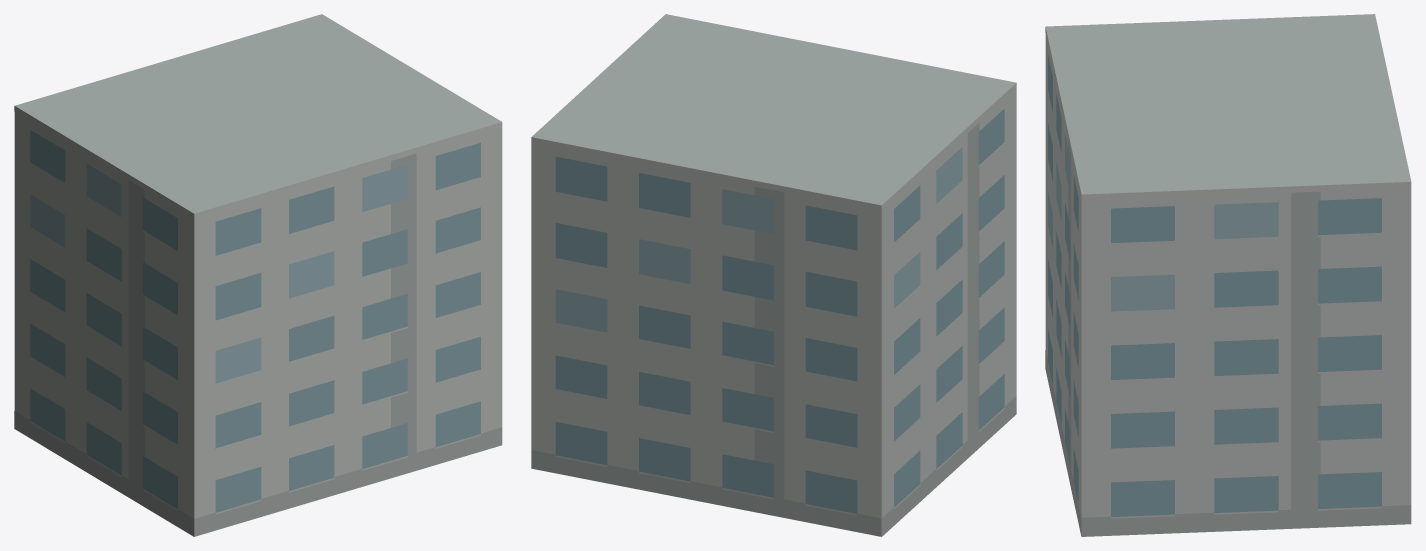
Rendered from survey-upis-32885107.glb.
3 views of the same model, side by side, from view 1: azimuth 30°, elevation 25°; view 2: azimuth 150°, elevation 25°; view 3: azimuth 270°, elevation 25° (orthographic). The views are drawn at different scales.
Parts seen in each view (by area): view 1: survey-upis-32885107.tmp; view 2: survey-upis-32885107.tmp; view 3: survey-upis-32885107.tmp.
Boxes of the visible parts, x1=… form: survey-upis-32885107.tmp: x1=14, y1=14, x2=502, y2=536; survey-upis-32885107.tmp: x1=531, y1=14, x2=1016, y2=536; survey-upis-32885107.tmp: x1=1045, y1=14, x2=1411, y2=536.
Bounding box in the file's own units: 15.28 × 13.5 × 13.09.
